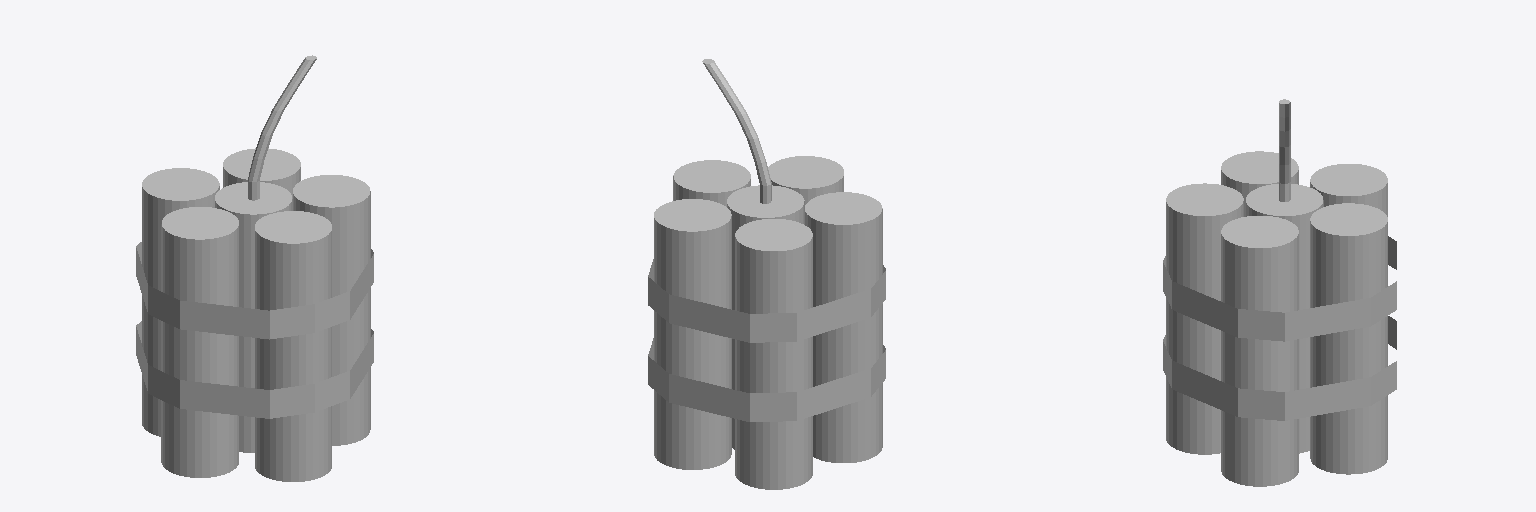
Rendered from tnt.obj.
3 views of the same model, side by side, from view 1: azimuth 30°, elevation 25°; view 2: azimuth 150°, elevation 25°; view 3: azimuth 270°, elevation 25° (orthographic).
Visible parts, largest first — view 1: tnt; view 2: tnt; view 3: tnt.
Boxes of the visible parts, x1,y1,x2,y2 form: tnt: [136, 55, 373, 481]; tnt: [648, 59, 885, 489]; tnt: [1163, 99, 1396, 486].
Size of the model in its own units: 0.6138 by 1.01 by 0.5905.